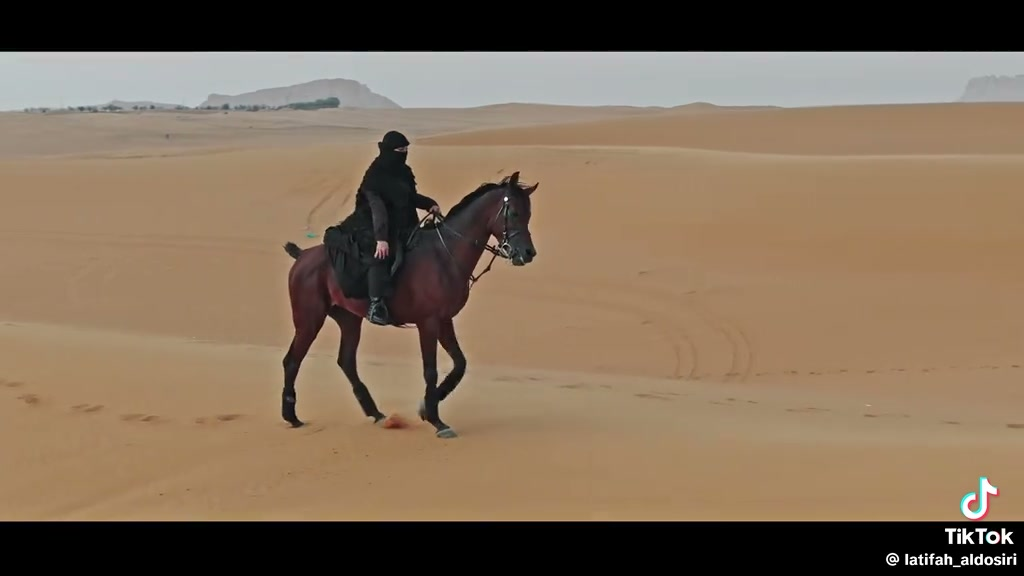animal_foot_print: (753, 364, 1020, 376), (193, 413, 243, 425), (119, 413, 164, 423), (558, 382, 613, 389), (70, 403, 104, 413), (633, 392, 671, 400), (17, 393, 41, 405), (785, 406, 830, 412), (0, 378, 24, 388), (863, 412, 909, 417), (559, 382, 590, 389), (941, 420, 960, 425), (1005, 423, 1023, 428)
